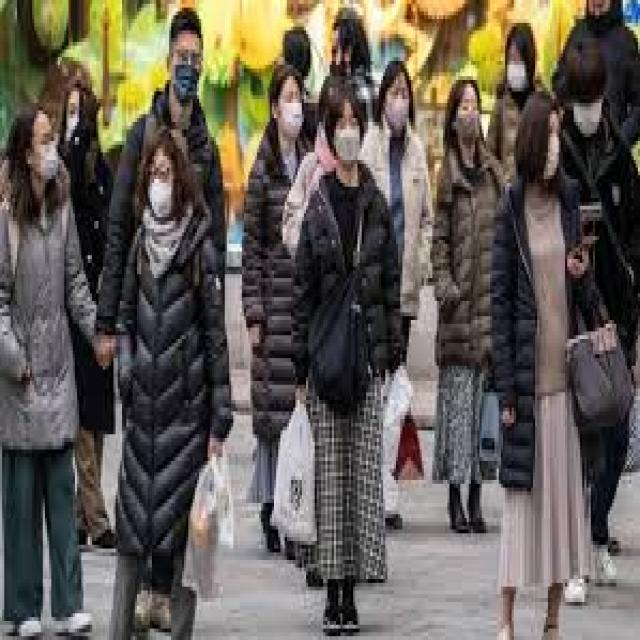Jacket: (112, 208, 234, 568), (92, 84, 230, 380), (486, 167, 598, 487), (549, 101, 640, 451), (294, 160, 411, 421), (0, 182, 99, 454), (243, 120, 321, 447), (427, 140, 509, 374), (360, 122, 442, 336)
